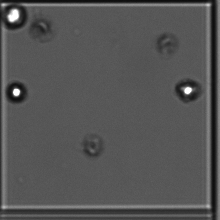Dead Cell: (83, 133, 107, 162), (32, 16, 51, 45), (158, 30, 175, 56)
Living Cell: (171, 76, 203, 109), (2, 4, 26, 37), (6, 78, 30, 106)
